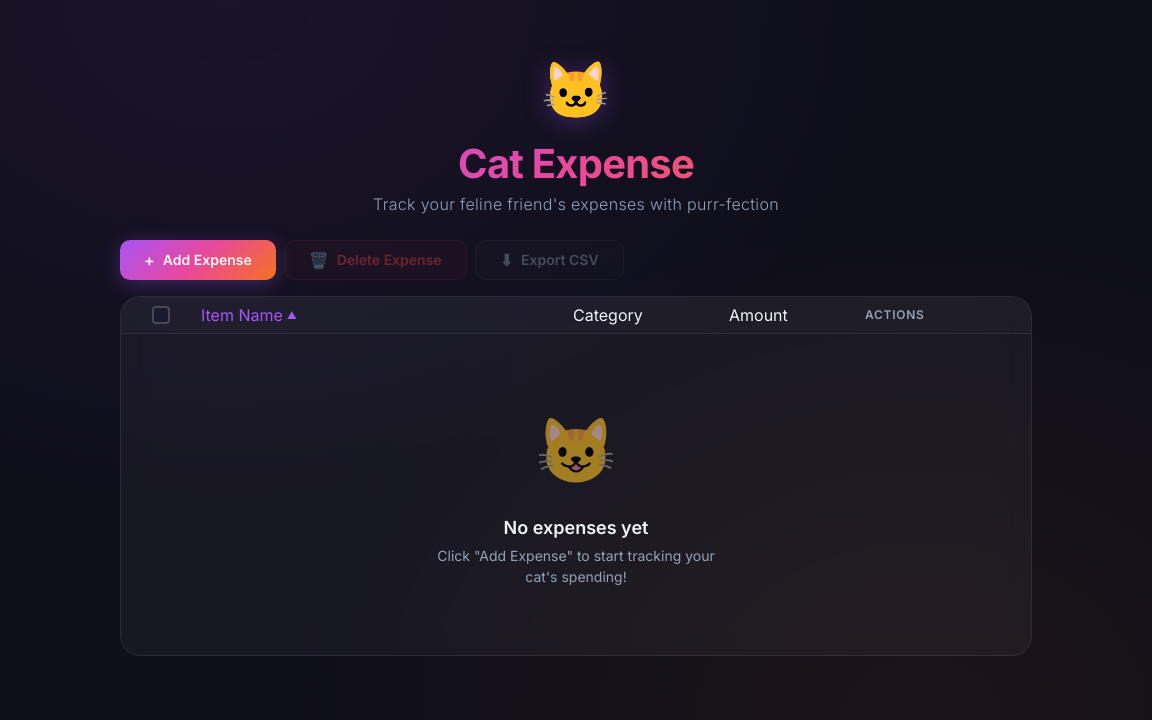
+page.svelte › persists a new expense to localStorage after submit
The width and height of the screenshot is (1152, 720).
Click the button "+ Add Expense" at (198, 260), box [120,240,276,280]
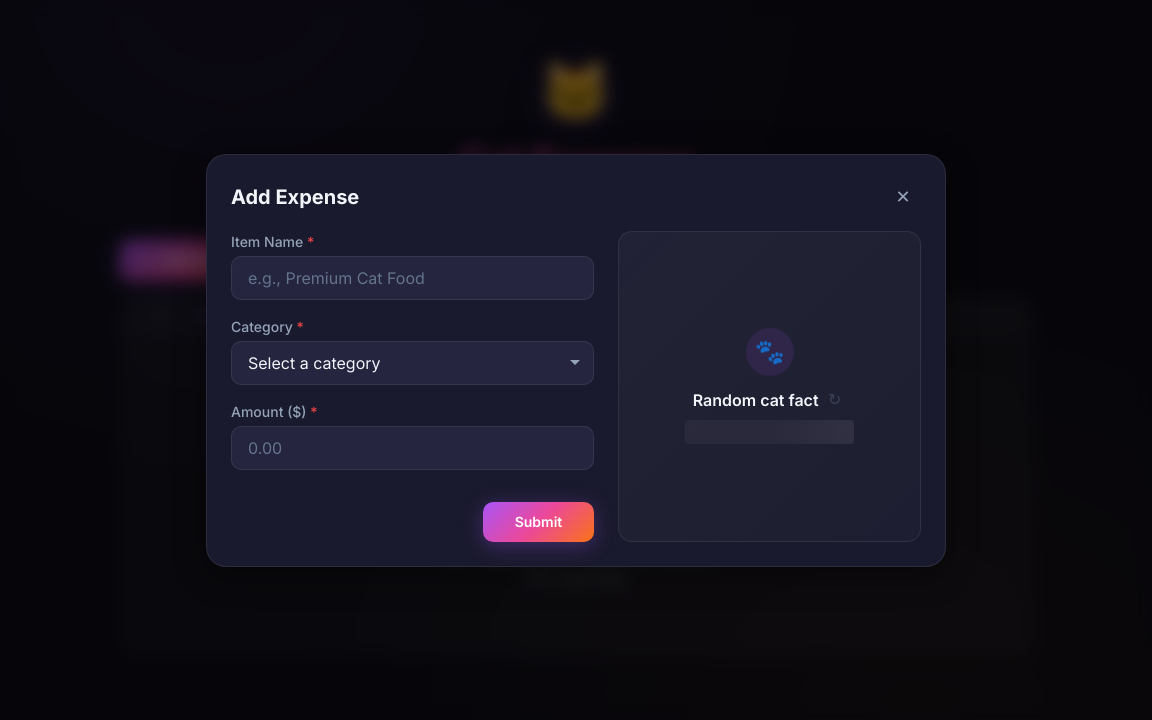
Type "Catnip" into the field labelled "Item Name" at (413, 278), box [231,256,594,300]
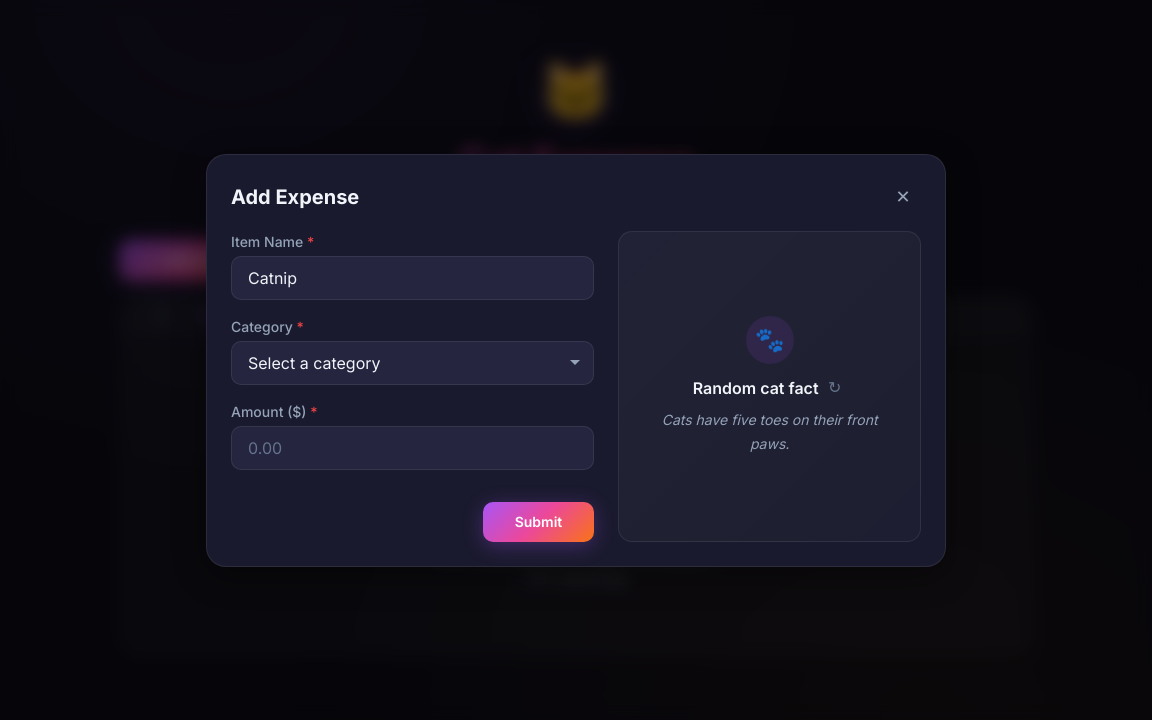
Select "✨ Accessory" in the dropdown labelled "Category" at (413, 362), box [231,340,594,384]
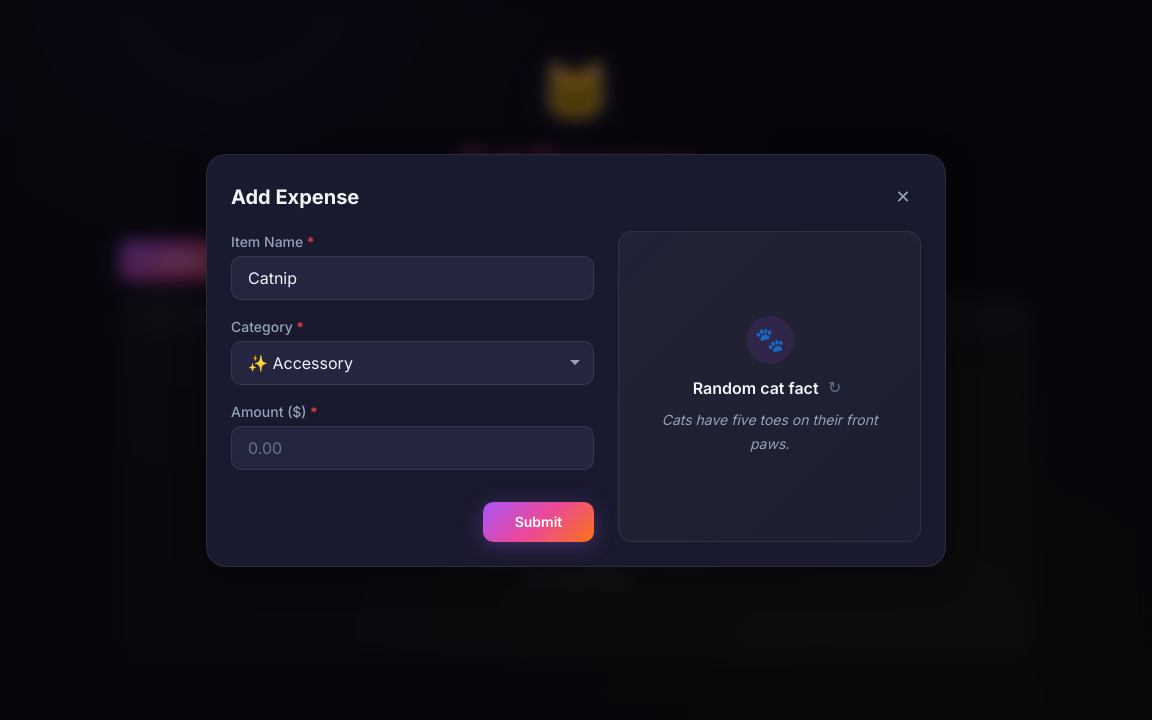
Type "5" into the field labelled "Amount ($)" at (413, 448), box [231,426,594,470]
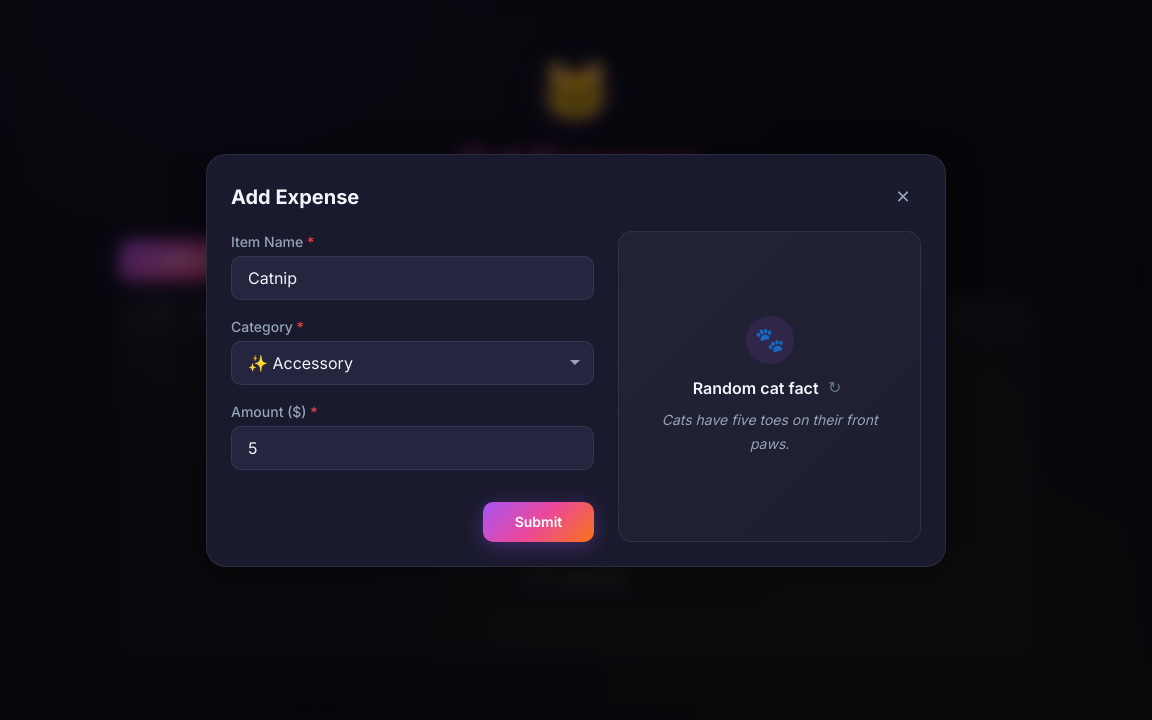
Click the button "Submit" at (538, 522), box [483,502,594,542]
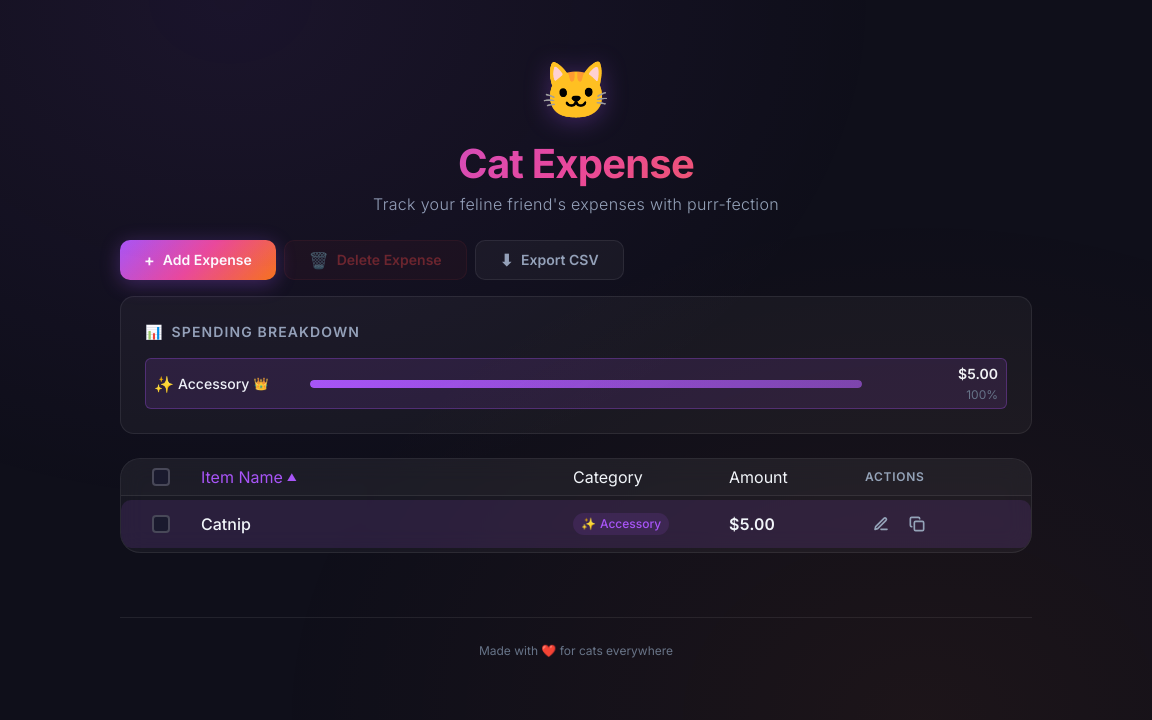
Check: the dialog is gone
Check: the text "Catnip" is shown, box [201,514,251,534]
Check: the text "Accessory" is shown, box [178,373,249,394]
